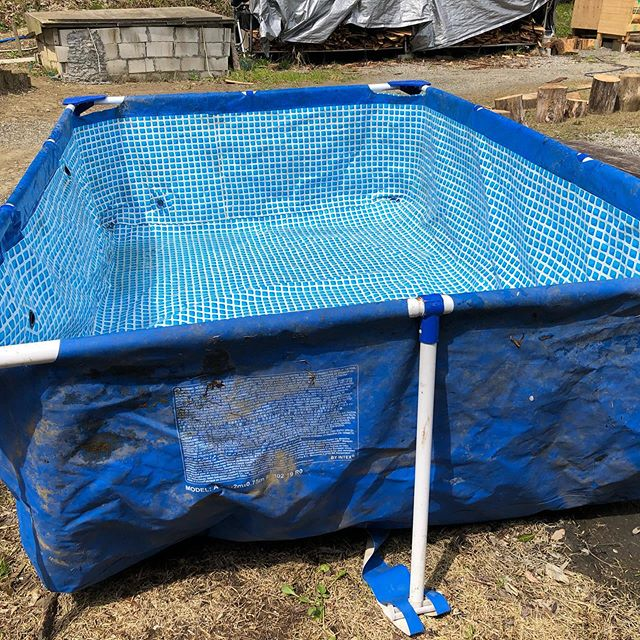pool: (1, 71, 631, 548)
